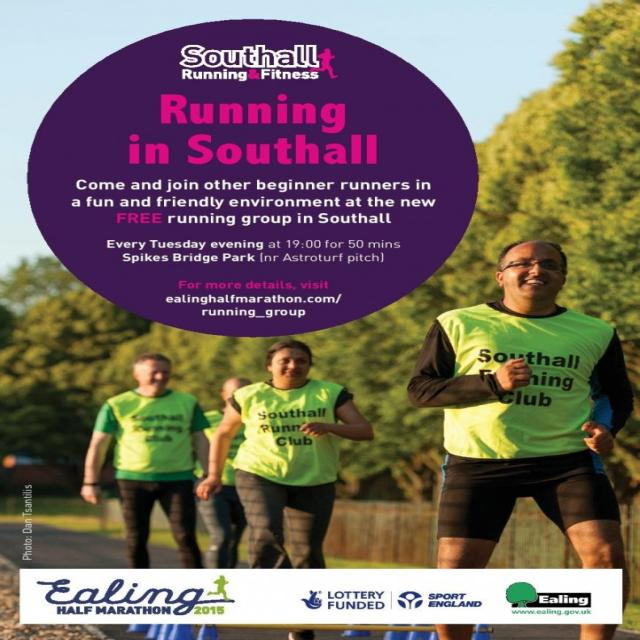body: (401, 237, 639, 639), (197, 339, 377, 569), (76, 352, 215, 569), (194, 376, 254, 569)
